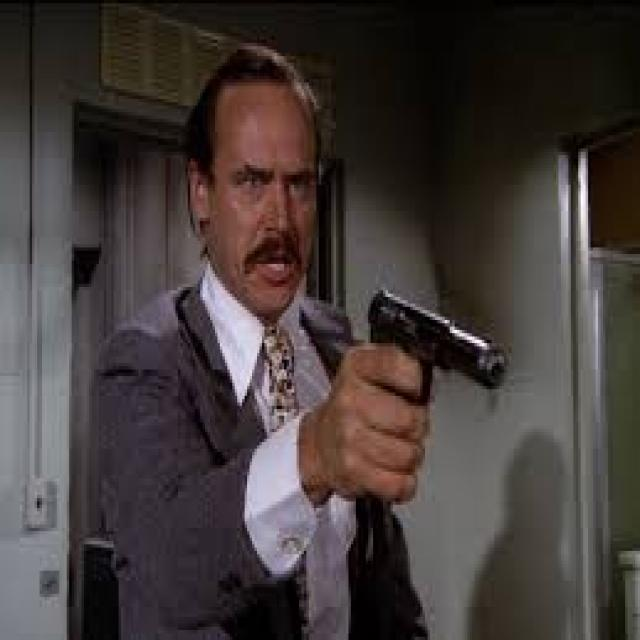gun: (363, 280, 512, 497)
